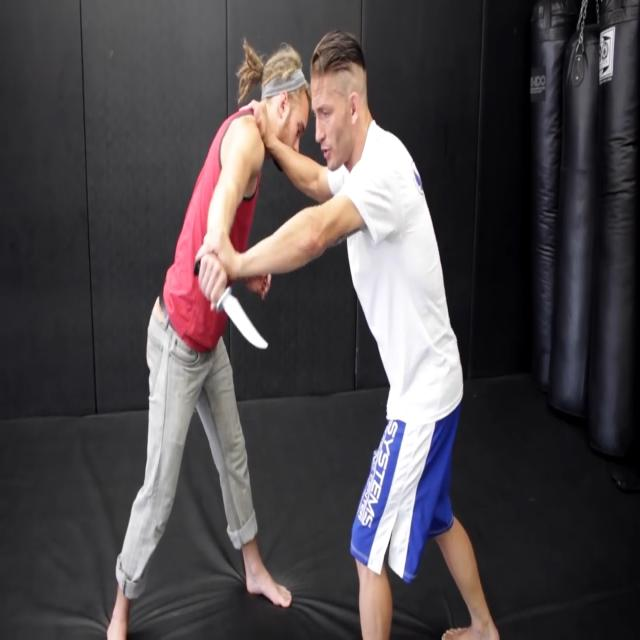knife: (222, 284, 271, 352)
